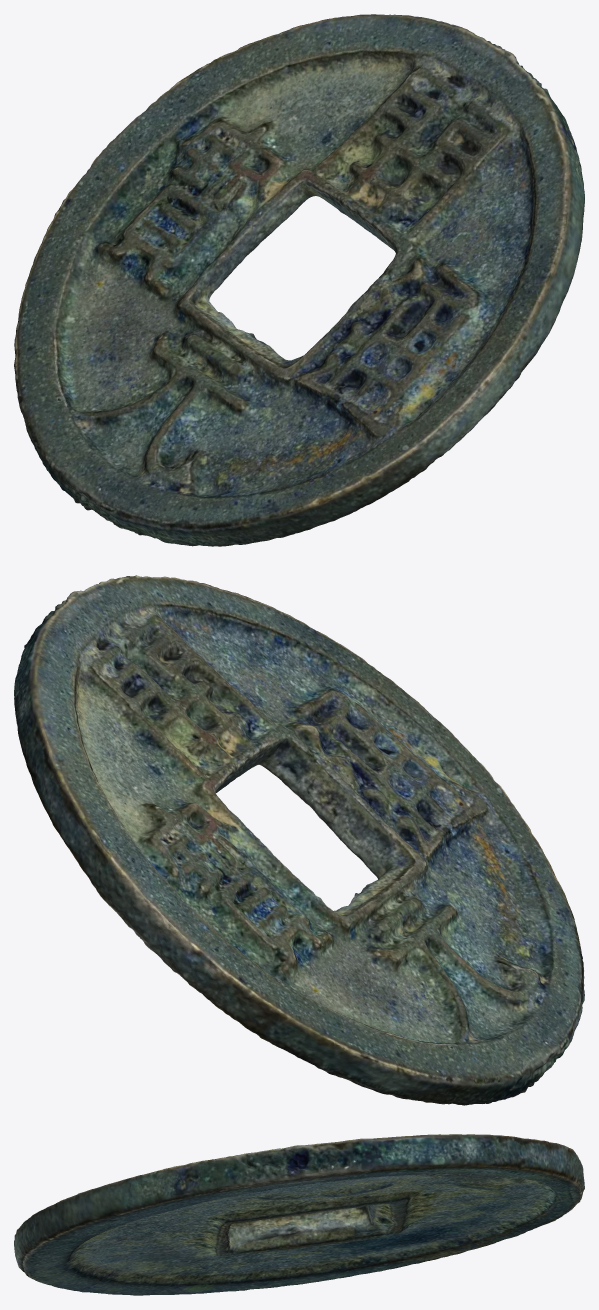
3 renders of one model, top to bottom at view 1: azimuth 30°, elevation 25°; view 2: azimuth 150°, elevation 25°; view 3: azimuth 270°, elevation 25°, orthographic. The views are drawn at different scales.
Parts seen in each view (by area): view 1: Node; view 2: Node; view 3: Node.
Boxes of the visible parts, x1,y1,x2,y2 form: Node: (14, 14, 584, 546); Node: (14, 575, 584, 1105); Node: (14, 1134, 584, 1295).
Size of the model in its own units: 0.7114 by 0.5355 by 0.8383.
1 material, 1 textured.
